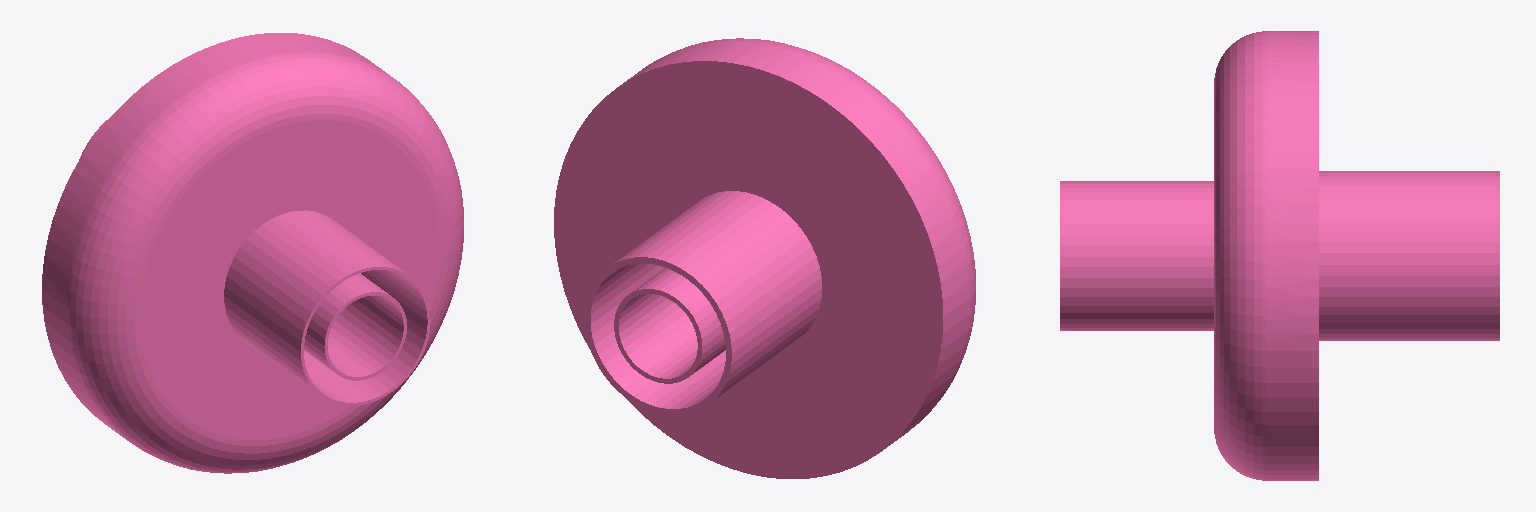
The model's file is HME-BacterialViral-Filter.obj.
The picture shows the model from 3 angles: view 1: azimuth 30°, elevation 25°; view 2: azimuth 150°, elevation 25°; view 3: azimuth 270°, elevation 25°; orthographic projection.
Parts seen in each view (by area): view 1: ViralFilter\ViralFilter1; view 2: ViralFilter\ViralFilter1; view 3: ViralFilter\ViralFilter1.
Boxes of the visible parts, x1,y1,x2,y2 form: ViralFilter\ViralFilter1: [42, 33, 463, 473]; ViralFilter\ViralFilter1: [554, 38, 975, 478]; ViralFilter\ViralFilter1: [1060, 31, 1499, 480].
Size of the model in its own units: 66 by 66 by 64.44.